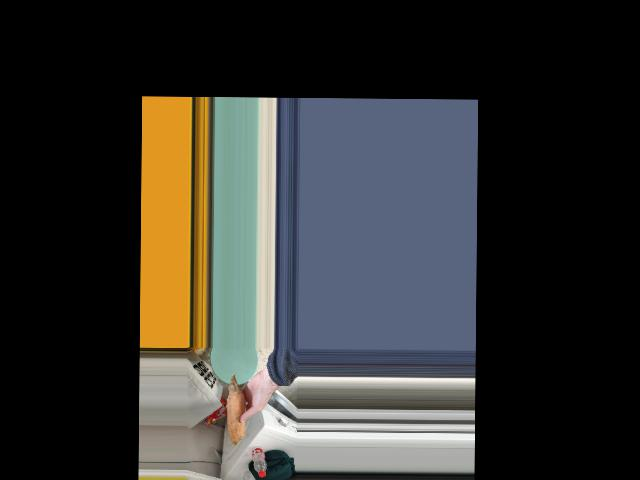sweet_potato: (226, 380, 248, 436)
